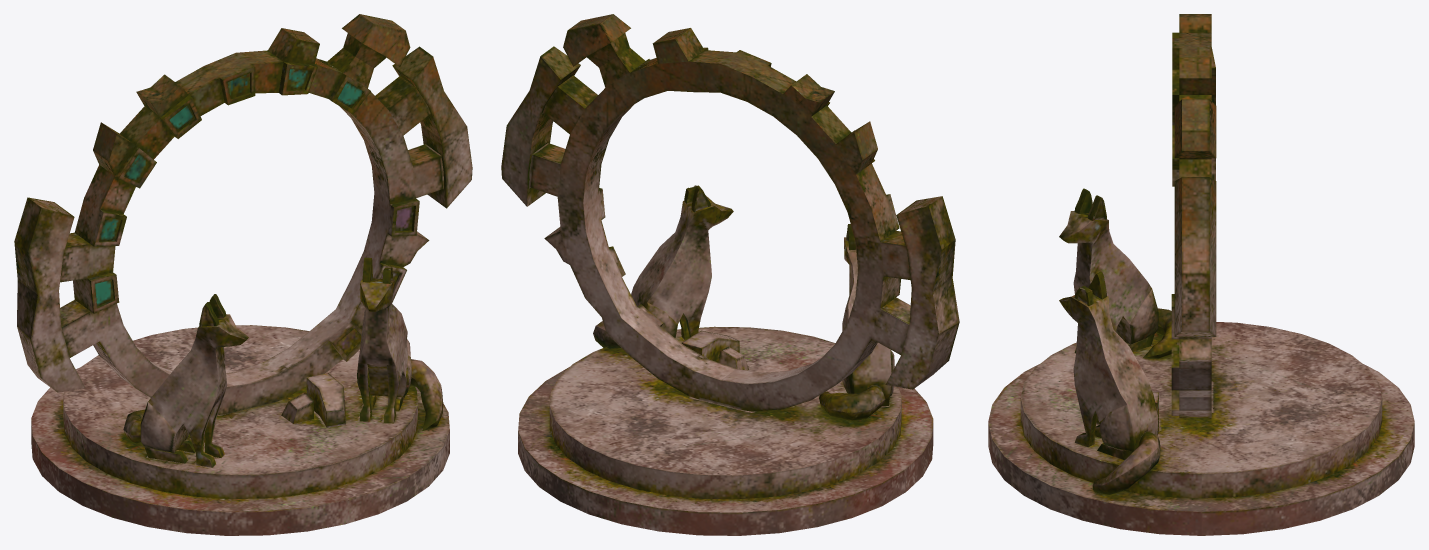
Rendered from Ancient_Portal.fbx.
3 views of the same model, side by side, from view 1: azimuth 30°, elevation 25°; view 2: azimuth 150°, elevation 25°; view 3: azimuth 270°, elevation 25° (orthographic). The views are drawn at different scales.
Parts seen in each view (by area): view 1: Ancient_Portal; view 2: Ancient_Portal; view 3: Ancient_Portal.
Boxes of the visible parts, x1,y1,x2,y2 form: Ancient_Portal: (14,14,472,535); Ancient_Portal: (501,14,959,535); Ancient_Portal: (988,14,1414,535).
Size of the model in its own units: 190 by 165 by 155.
